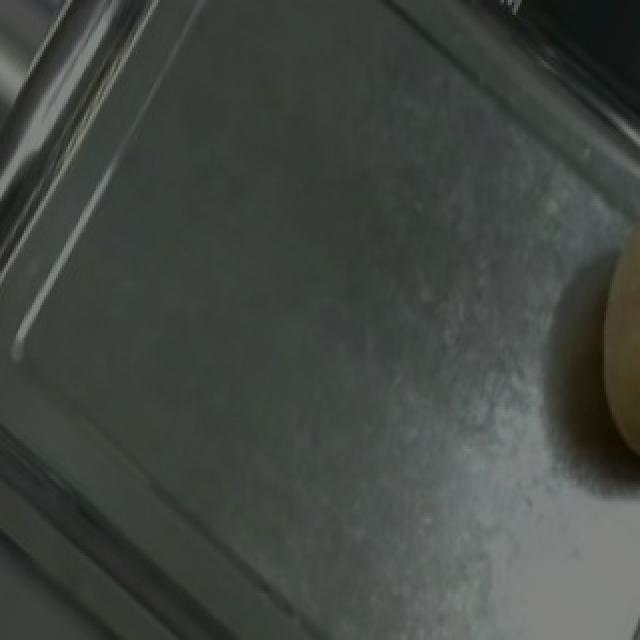Fruit: (566, 196, 640, 506)
